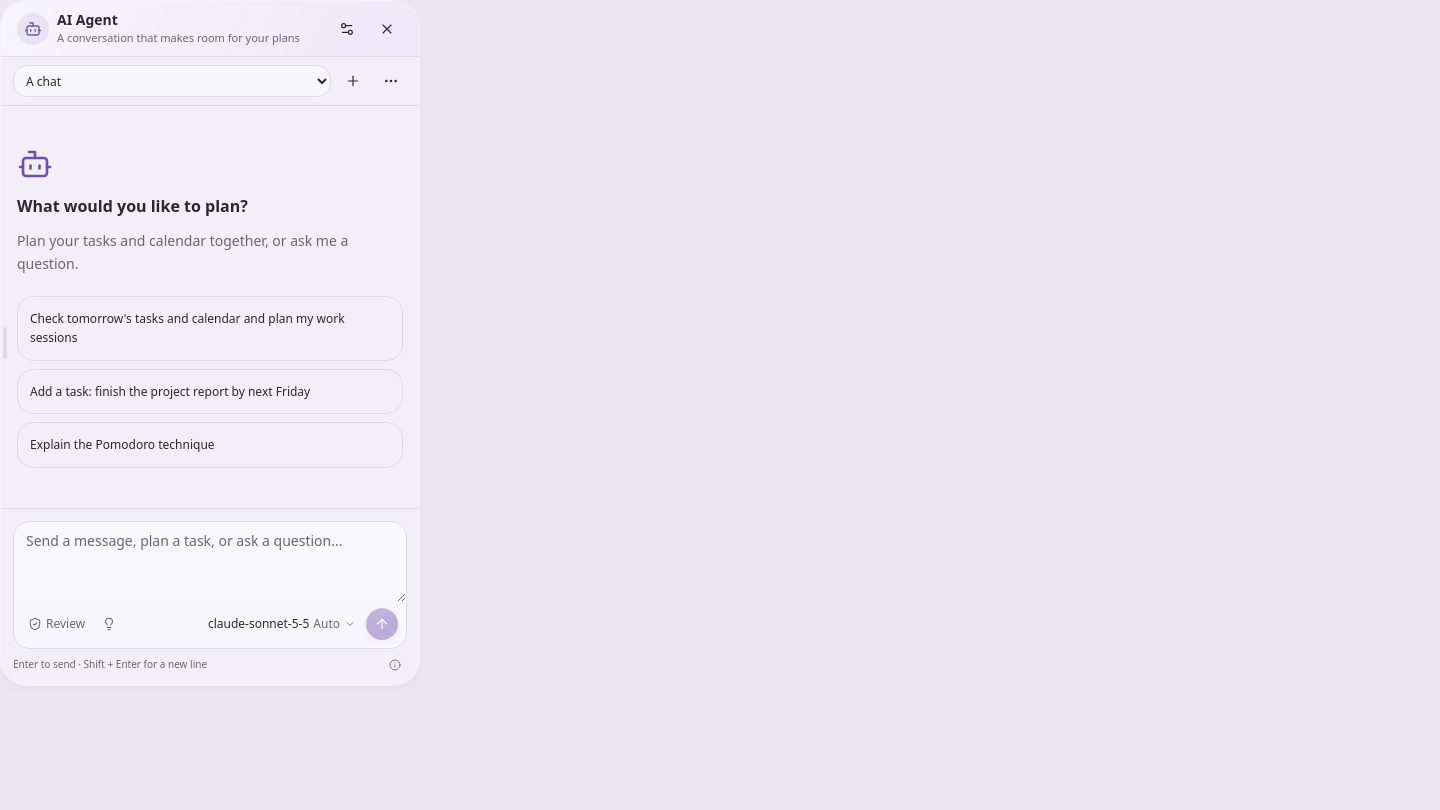
Scenario: AI Agent sidebar › retains access to privacy information through the compact footer
The image size is (1440, 810).
Expected: the text "Messages, conversation context and relevant task" is not shown
Click the button named "Data and privacy information".
click(395, 664)  # box x1=383 y1=652 x2=407 y2=676
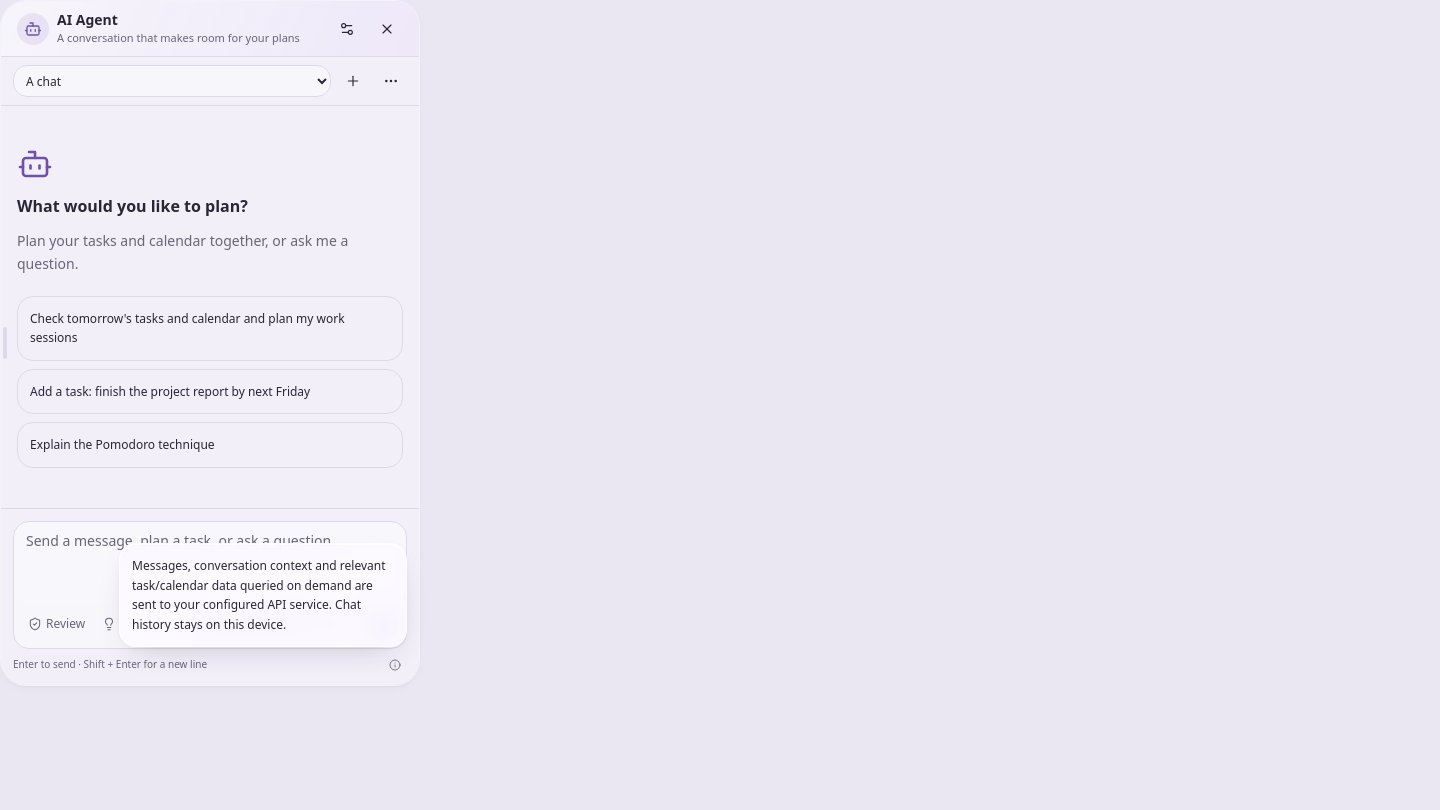
Now the dialog named "Data and privacy information" shows "Chat history stays on this device", box x1=132 y1=557 x2=386 y2=632
